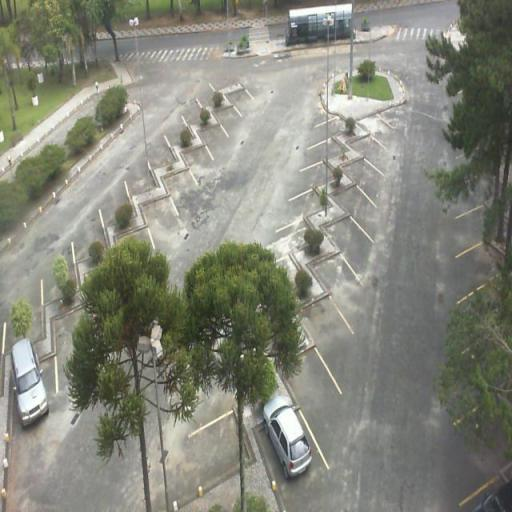Slot-empty: (288, 341, 352, 433), (302, 294, 354, 363), (318, 252, 362, 308), (336, 184, 382, 226), (331, 217, 373, 263), (342, 160, 391, 196), (357, 107, 400, 145), (158, 172, 209, 204), (138, 203, 185, 237), (351, 132, 393, 168), (224, 85, 262, 120), (200, 126, 238, 161), (213, 111, 258, 140), (184, 157, 220, 186)
Slot-occupied: (261, 390, 318, 477), (7, 334, 54, 425)
